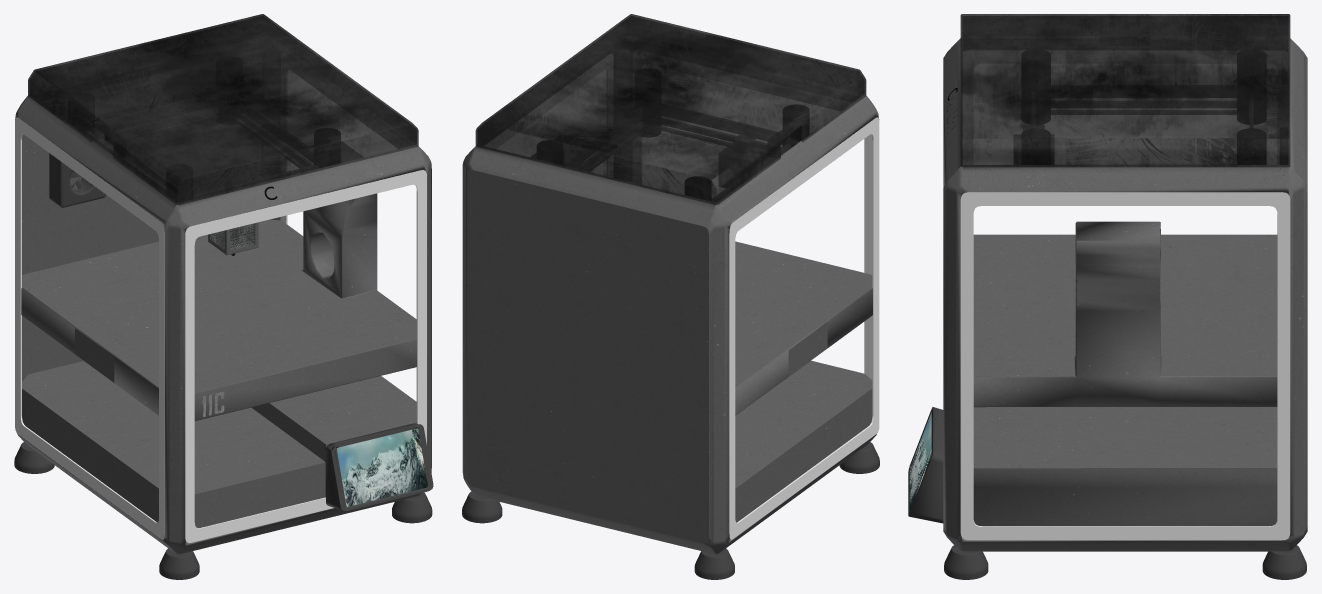
The model's file is Impressora 3D.glb.
3 views of the same model, side by side, from view 1: azimuth 30°, elevation 25°; view 2: azimuth 150°, elevation 25°; view 3: azimuth 270°, elevation 25° (orthographic). The views are drawn at different scales.
Visible parts, largest first — view 1: Cube.005, Cube.001, Cube.002, Cube.014, Cube.003, Cube.017, Cube.015, Cube.016, Cube.007, Cube.006, Cube.008, Cube.011 (+1 smaller); view 2: Cube.002, Cube.001, Cube.005, Cube.014, Cube.003, Cube.015, Cube.007, Cube.006; view 3: Cube.005, Cube.001, Cube.014, Cube.002, Cube.003, Cube.016, Cube.015, Cube.006, Cube.017, Cube.007.
Part boxes in pixels (<box>): Cube.005: <box>21,141,416,420</box>; Cube.001: <box>28,14,418,205</box>; Cube.002: <box>15,37,431,554</box>; Cube.014: <box>22,361,417,528</box>; Cube.003: <box>15,54,426,543</box>; Cube.017: <box>337,428,427,506</box>; Cube.015: <box>14,442,432,579</box>; Cube.016: <box>324,423,433,510</box>; Cube.007: <box>86,102,317,198</box>; Cube.006: <box>68,56,340,200</box>; Cube.008: <box>49,153,106,207</box>; Cube.011: <box>210,223,255,250</box>; Cube.002: <box>462,37,879,554</box>; Cube.001: <box>475,14,866,204</box>; Cube.005: <box>532,145,872,415</box>; Cube.014: <box>483,360,872,541</box>; Cube.003: <box>486,55,879,539</box>; Cube.015: <box>462,442,879,579</box>; Cube.007: <box>564,116,790,196</box>; Cube.006: <box>537,105,808,199</box>; Cube.005: <box>973,221,1277,407</box>; Cube.001: <box>960,14,1290,167</box>; Cube.014: <box>973,407,1277,526</box>; Cube.002: <box>943,37,1307,551</box>; Cube.003: <box>960,51,1290,540</box>; Cube.016: <box>908,407,943,523</box>; Cube.015: <box>944,545,1306,579</box>; Cube.006: <box>1022,49,1265,164</box>; Cube.017: <box>909,412,931,510</box>; Cube.007: <box>1033,101,1236,127</box>.
Bounding box in the file's own units: 0.6616 × 0.9315 × 0.7777.
Materials: 11 (10 with a texture image).
